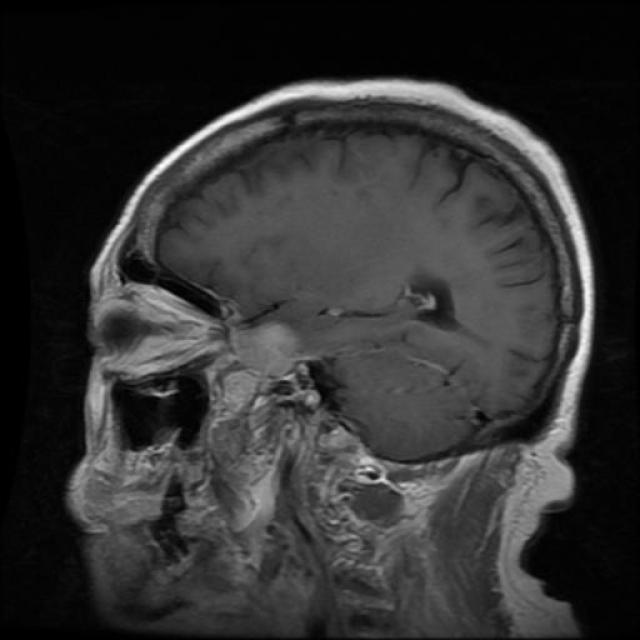meningioma: (232, 326, 301, 370)
